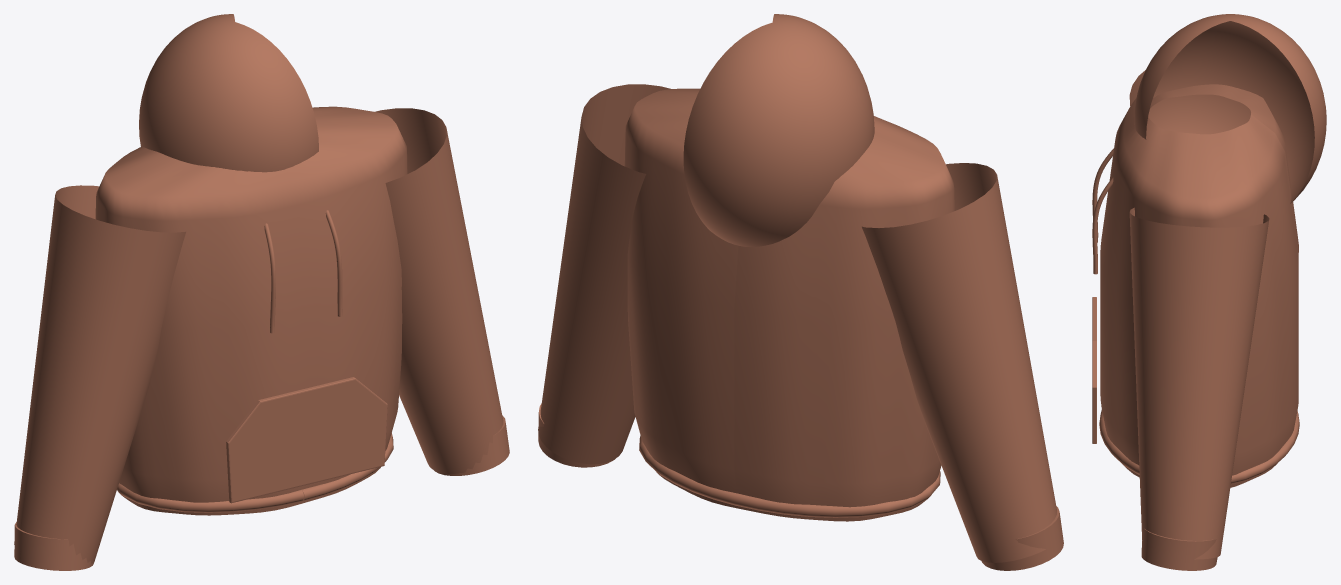
Rendered from hoodie-sable-homme.glb.
The picture shows the model from 3 angles, left to right: view 1: azimuth 30°, elevation 25°; view 2: azimuth 150°, elevation 25°; view 3: azimuth 270°, elevation 25°; orthographic projection. The views are drawn at different scales.
Visible parts, largest first — view 1: edit-04, long-sleeve (×2); view 2: edit-04, long-sleeve (×2); view 3: edit-04, long-sleeve.
Part boxes in pixels (bbox=[...]): edit-04: bbox=[14, 14, 509, 570]; long-sleeve (×2): bbox=[14, 108, 503, 563]; edit-04: bbox=[538, 14, 1063, 570]; long-sleeve (×2): bbox=[538, 84, 1056, 562]; edit-04: bbox=[1092, 14, 1326, 570]; long-sleeve: bbox=[1129, 207, 1269, 559].
Bounding box in the file's own units: 0.7702 × 0.7203 × 0.341.
